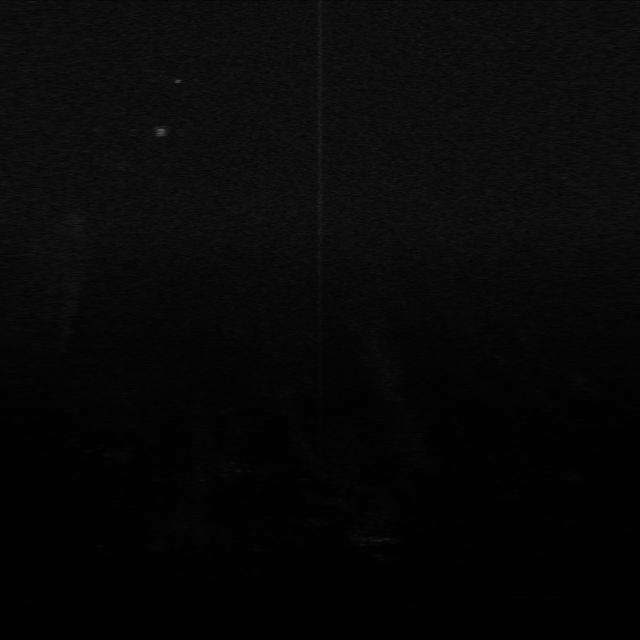rov: (148, 122, 176, 144)
